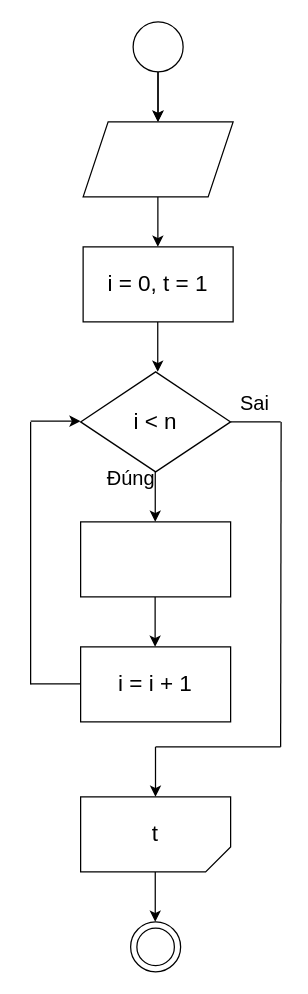
The diagram is 308 pixels wide and 994 high, and some of its shapes have lost their labels. Here are the shapes that lost their labels. From the top down, the centre of each, then its label:
pixel 157 159: x, n
pixel 155 559: t = t * x
